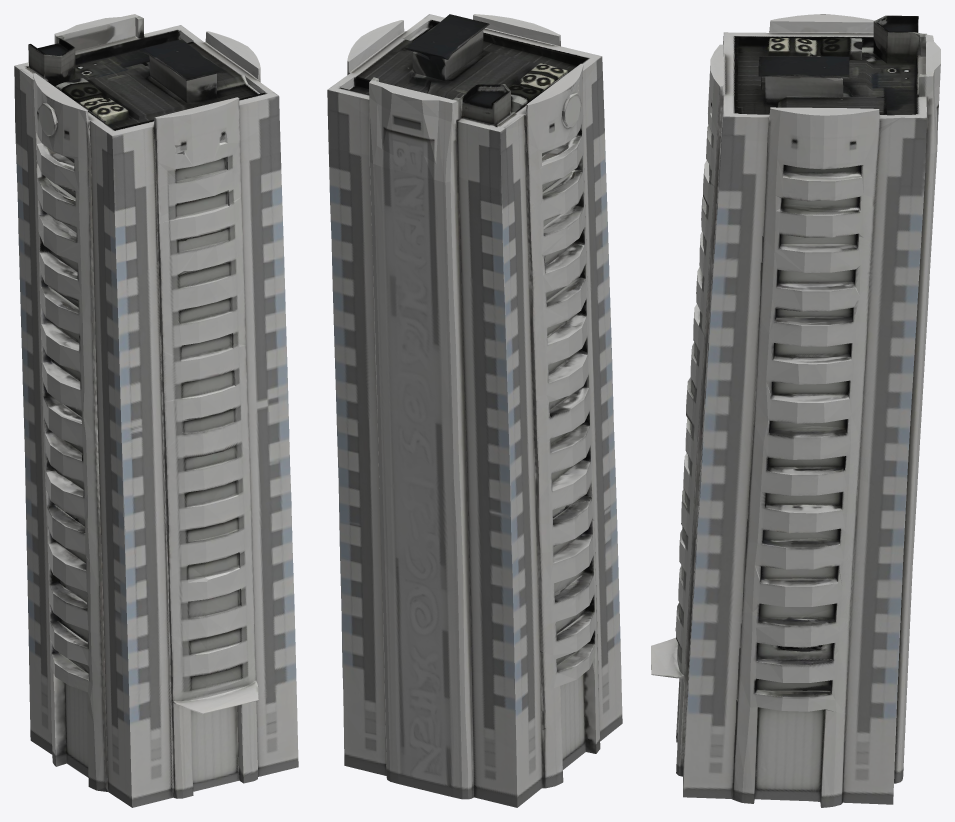
File: Edificio.fbx
The picture shows the model from 3 angles, left to right: view 1: azimuth 30°, elevation 25°; view 2: azimuth 150°, elevation 25°; view 3: azimuth 270°, elevation 25°; orthographic projection. The views are drawn at different scales.
Parts seen in each view (by area): view 1: tripo_node_78fa754d; view 2: tripo_node_78fa754d; view 3: tripo_node_78fa754d.
Part boxes in pixels (x1=…): tripo_node_78fa754d: x1=14, y1=14, x2=298, y2=807; tripo_node_78fa754d: x1=327, y1=14, x2=622, y2=807; tripo_node_78fa754d: x1=651, y1=14, x2=940, y2=807.
Size of the model in its own units: 0.3102 by 0.9999 by 0.3698.
Materials: 1 (1 with a texture image).
